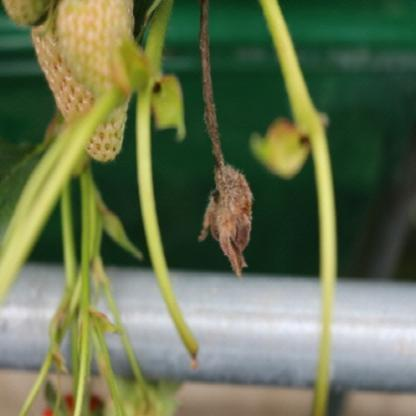Strawberry_Gray_Mold: (197, 143, 253, 278)
